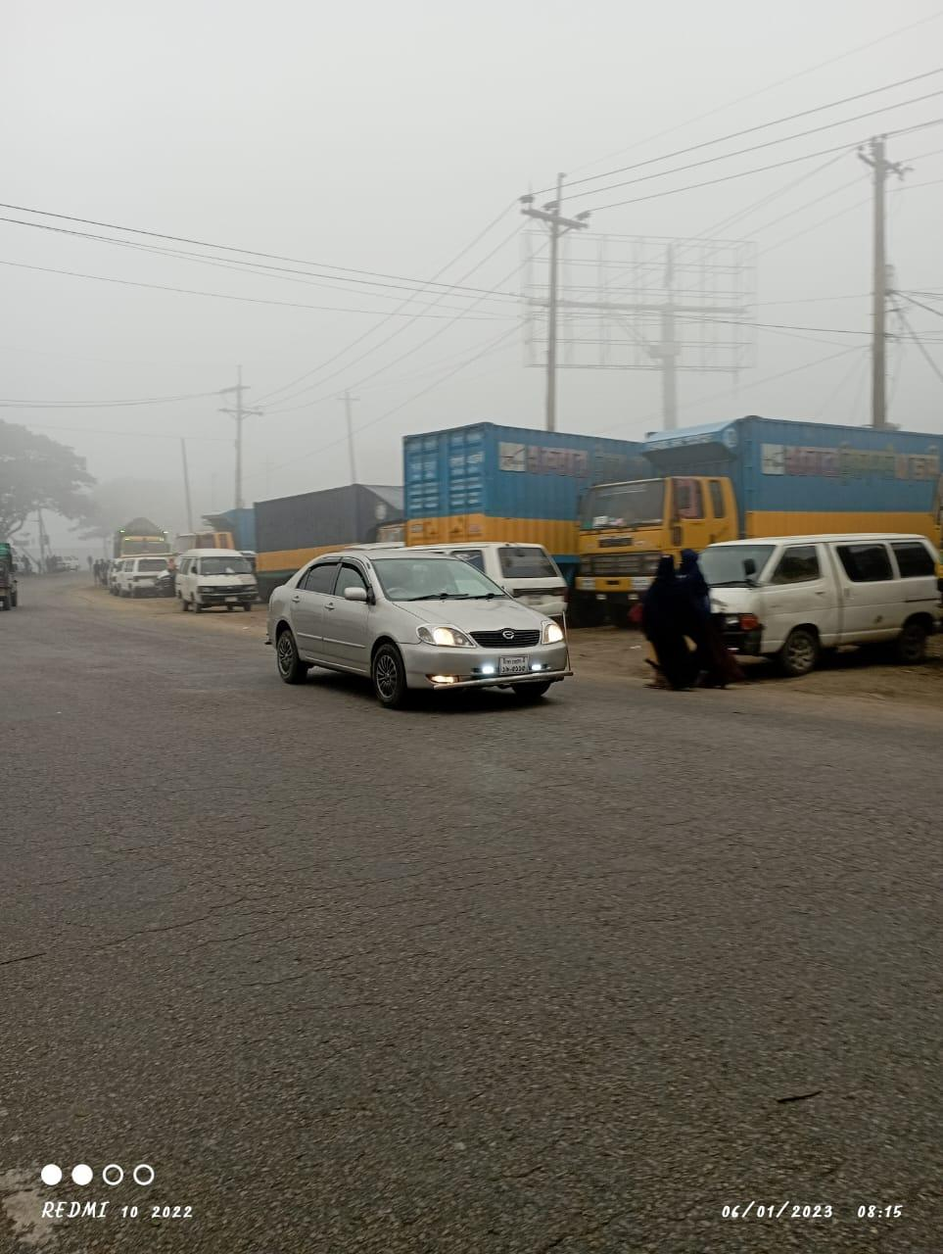Car: (255, 544, 593, 720), (686, 533, 943, 670), (176, 537, 263, 612), (99, 548, 173, 597)
Truck: (582, 420, 921, 594), (392, 404, 599, 576), (236, 483, 397, 579)
